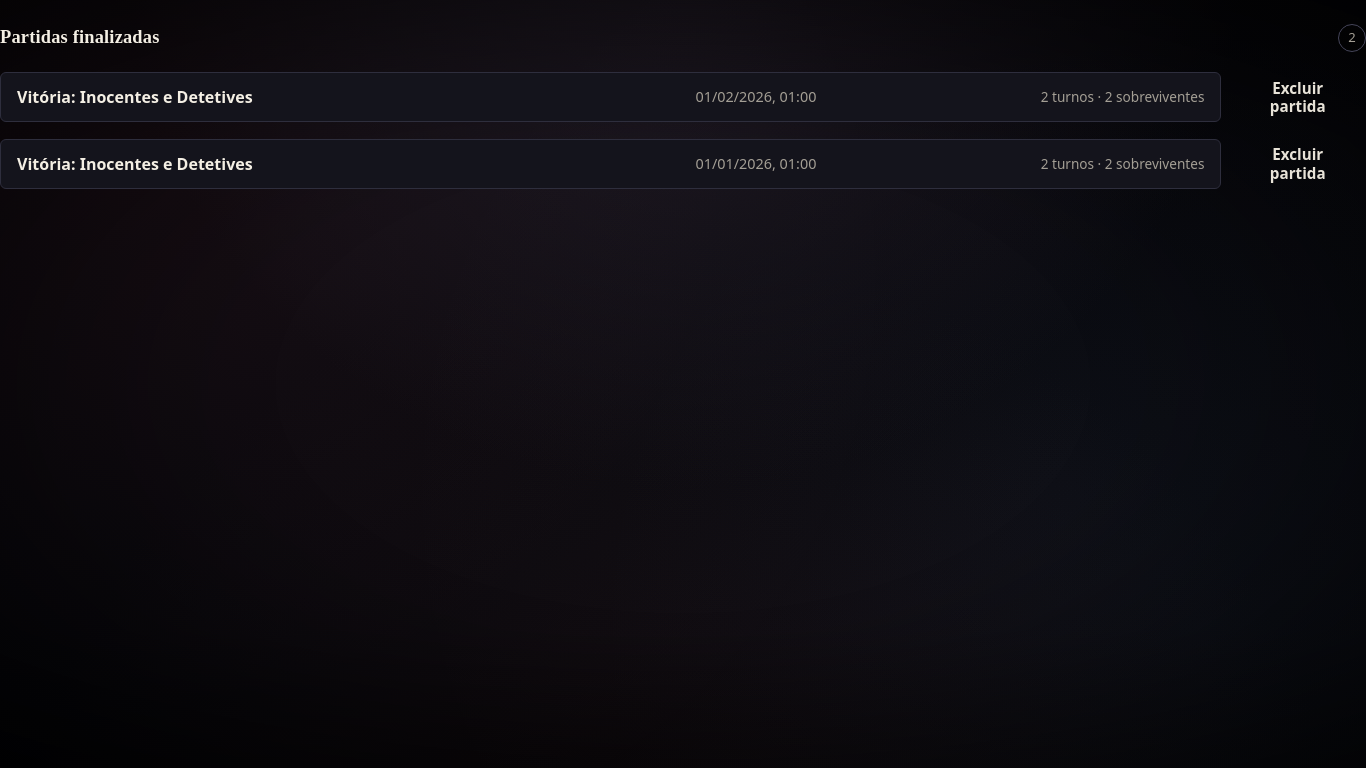
Exclusão de partida do histórico (integração) › exclui com confirmação, remove da lista e preserva outras partidas e participantes
Step 1. Click the button with aria-label "Excluir partida de" → x=1298, y=164, box [1229, 134, 1365, 193]
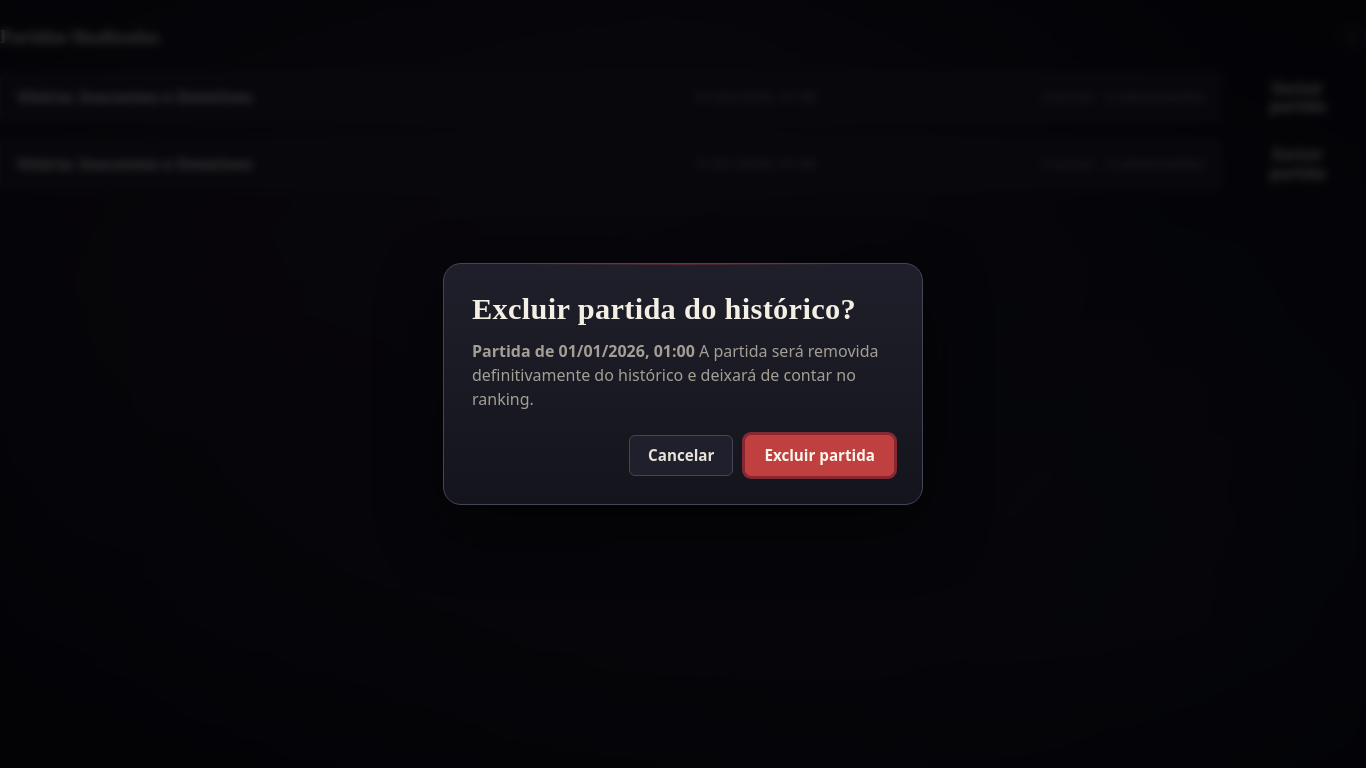
Step 2. Click the button "Excluir partida" → x=820, y=456, box [745, 435, 894, 476]
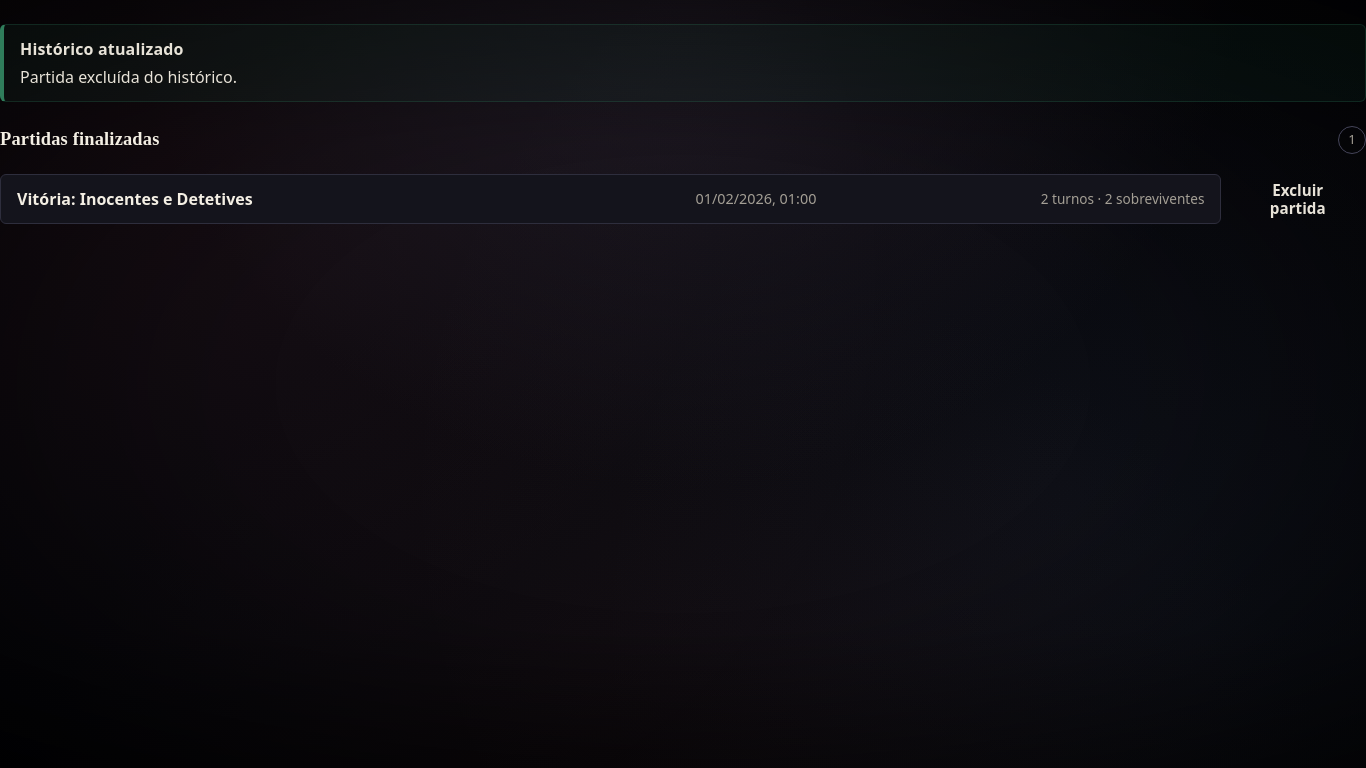
Check: the text "Partida excluída do histórico." is shown, box [20, 66, 237, 88]
Check: the button "01/01" is gone
